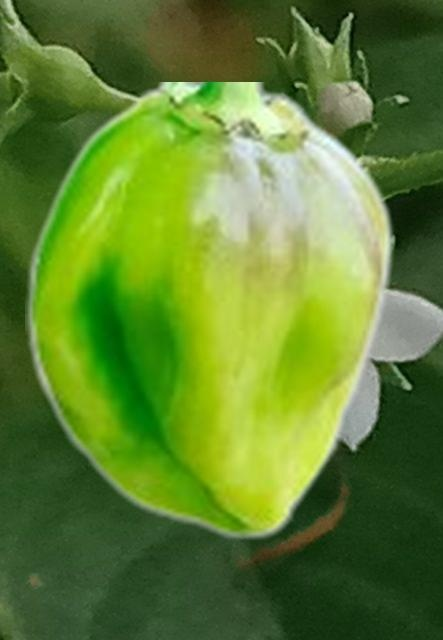green_chili: (25, 82, 395, 541)
